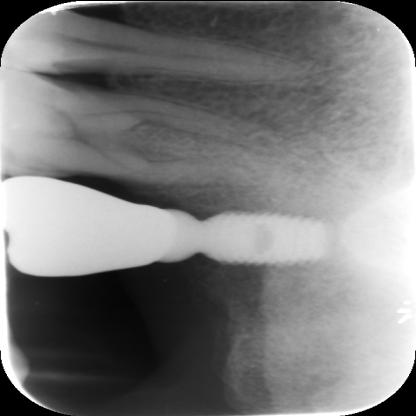Bicon: (198, 199, 330, 273)
